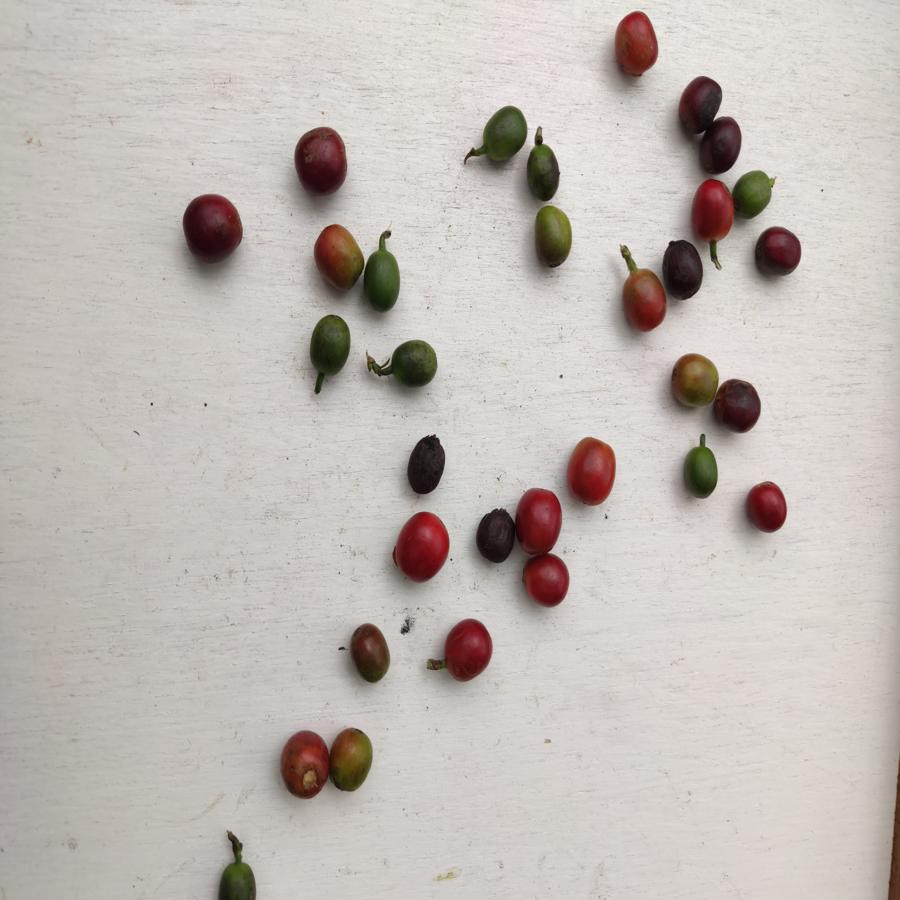Inmaduro: (480, 104, 527, 165), (309, 311, 353, 375), (364, 248, 404, 313), (388, 338, 438, 388), (522, 143, 563, 201), (680, 444, 721, 499), (733, 169, 773, 220)
Maduro: (388, 512, 452, 582), (564, 434, 617, 506), (441, 616, 495, 685), (276, 728, 330, 797), (516, 485, 562, 552), (614, 10, 659, 77), (520, 555, 570, 609), (743, 479, 790, 536), (692, 178, 734, 241)
Pinton: (312, 221, 366, 288), (619, 263, 669, 333), (331, 725, 377, 794), (670, 352, 719, 408), (534, 204, 573, 271), (350, 620, 392, 682)
Sobremaduro: (179, 193, 246, 265), (292, 124, 350, 194), (405, 435, 448, 496), (697, 115, 742, 173), (716, 379, 764, 433), (752, 228, 804, 276), (679, 75, 722, 132), (664, 236, 702, 300), (475, 508, 517, 565)
